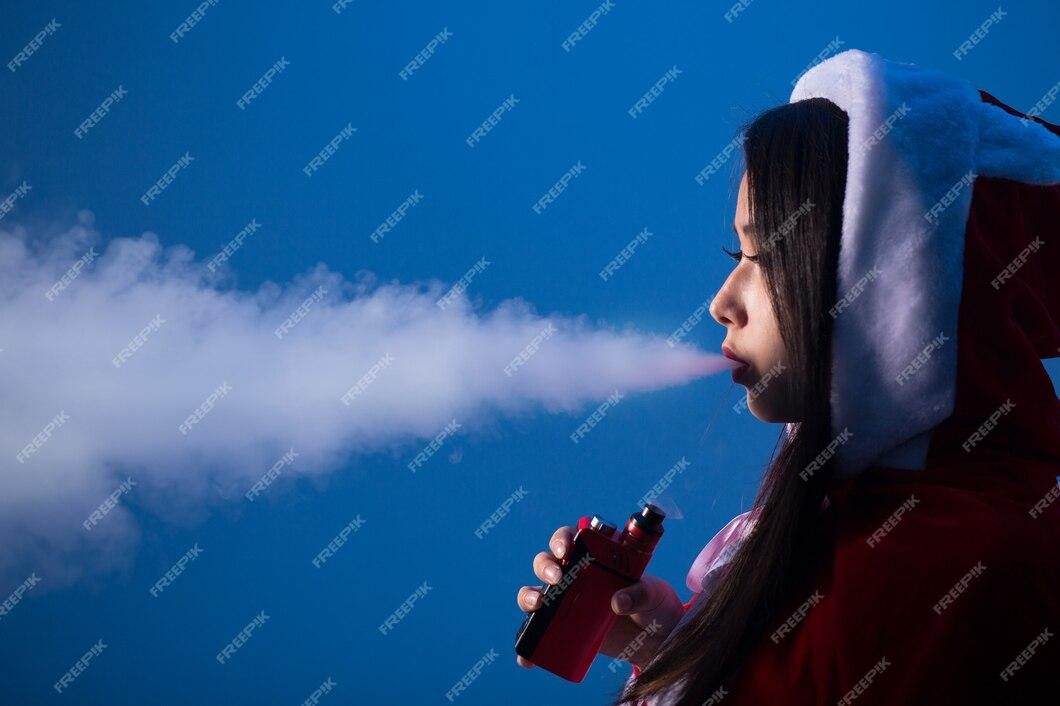Vape: (515, 505, 664, 682)
